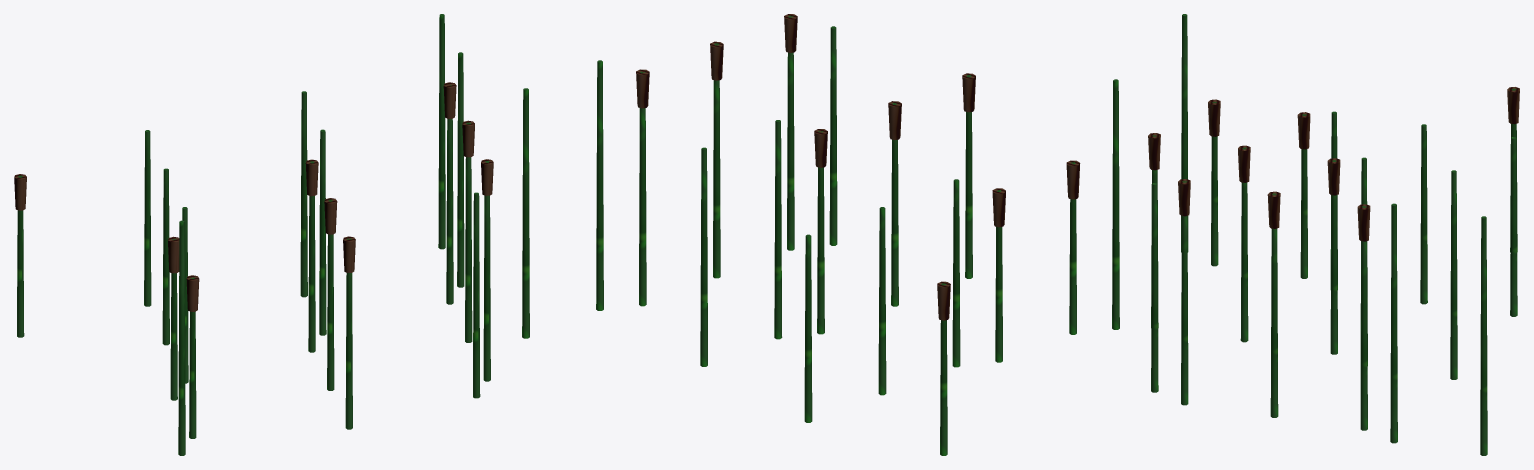
File: wetland-reed-bed.lod0.gltf
The picture shows the model from 3 angles, left to right: view 1: azimuth 30°, elevation 25°; view 2: azimuth 150°, elevation 25°; view 3: azimuth 270°, elevation 25°; orthographic projection. The views are drawn at different scales.
Visible parts, largest first — view 1: wetland-reed-bed; view 2: wetland-reed-bed; view 3: wetland-reed-bed.
Part boxes in pixels (<box>): wetland-reed-bed: <box>14,14,493,455</box>; wetland-reed-bed: <box>522,14,1119,455</box>; wetland-reed-bed: <box>1148,14,1519,455</box>.
Size of the model in its own units: 3.27 by 1.75 by 2.49.
2 materials, 2 textured.
